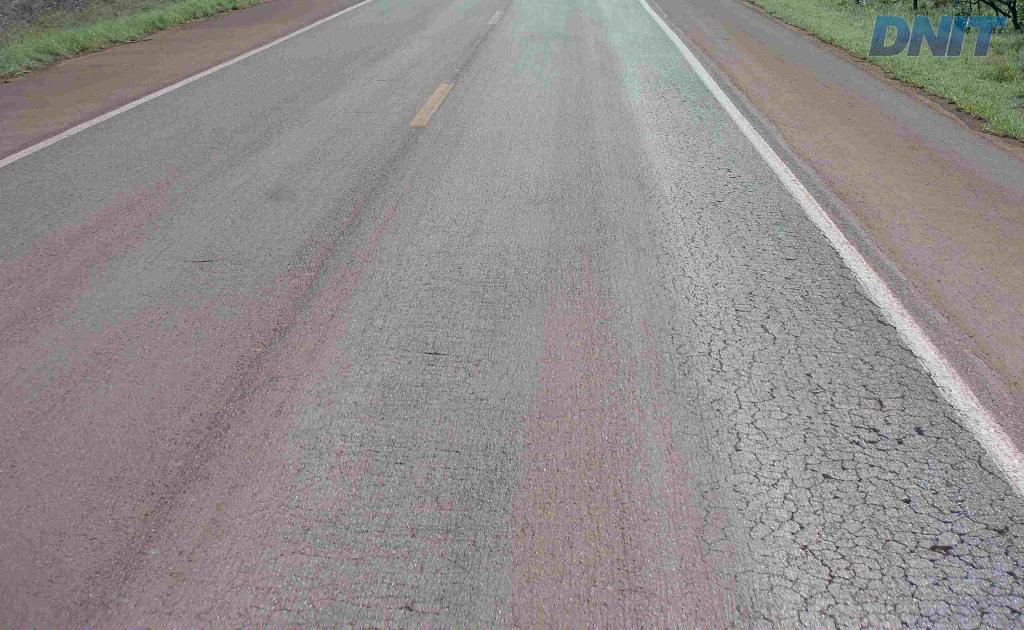crack: (906, 499, 1023, 607)
